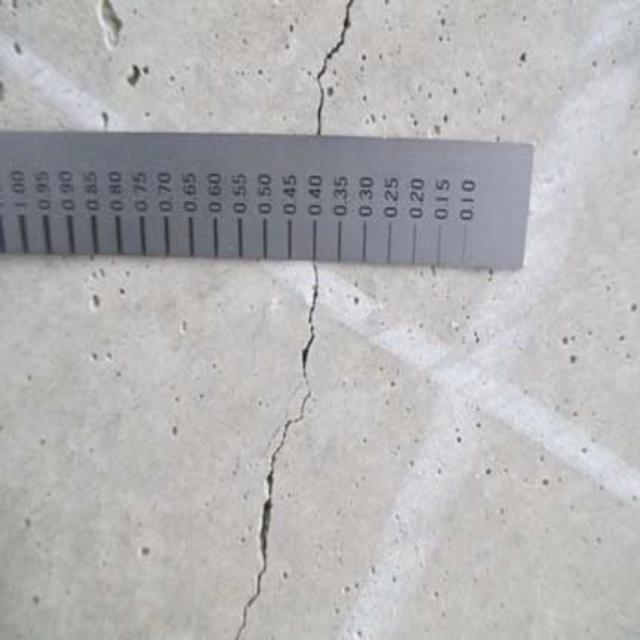crack: (243, 264, 317, 640), (303, 1, 351, 153)
